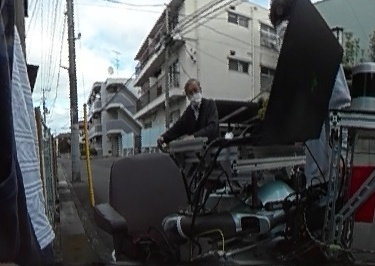person: (168, 77, 214, 138)
